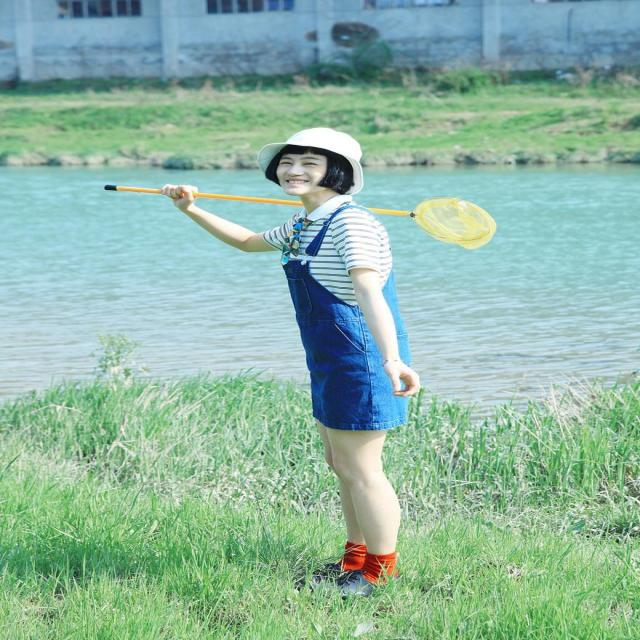short sleeve top: (264, 195, 400, 325)
sling dress: (282, 206, 412, 431), (309, 208, 392, 306)
